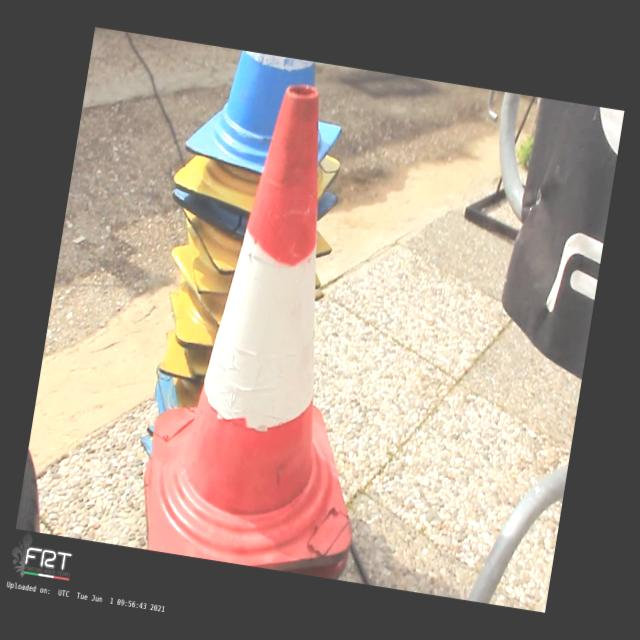blue_cone: (183, 45, 351, 184)
orange_cone: (136, 71, 420, 581)
